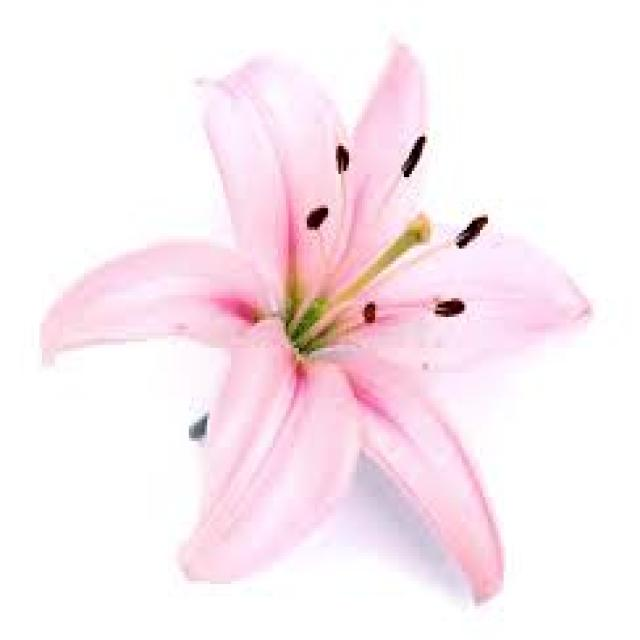lily: (30, 45, 595, 634)
